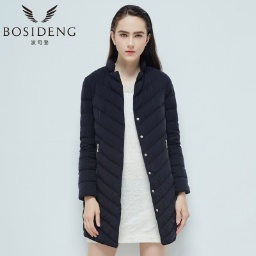face: (99, 1, 167, 83)
